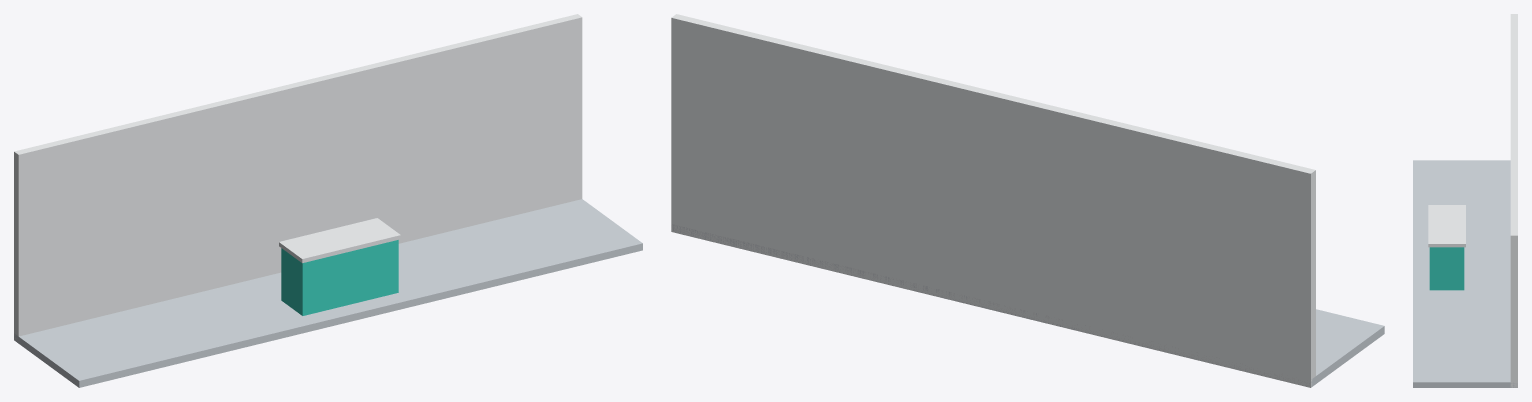
The picture shows the model from 3 angles, left to right: view 1: azimuth 30°, elevation 25°; view 2: azimuth 150°, elevation 25°; view 3: azimuth 270°, elevation 25°; orthographic projection. The views are drawn at different scales.
Parts seen in each view (by area): view 1: Exhibition Booth Concept; view 2: Exhibition Booth Concept; view 3: Exhibition Booth Concept.
Boxes of the visible parts, bbox=[...] form: Exhibition Booth Concept: bbox=[14, 14, 642, 387]; Exhibition Booth Concept: bbox=[671, 14, 1384, 387]; Exhibition Booth Concept: bbox=[1413, 14, 1517, 387].
Bounding box in the file's own units: 10 × 3.2 × 2.
